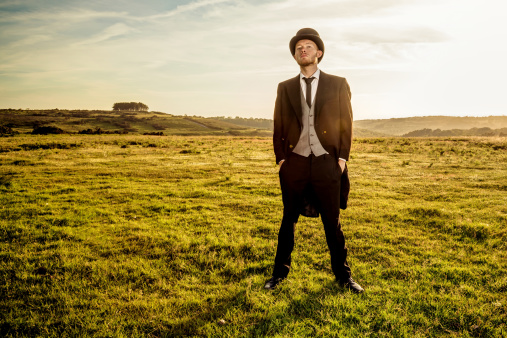em pe: (259, 22, 361, 293)
